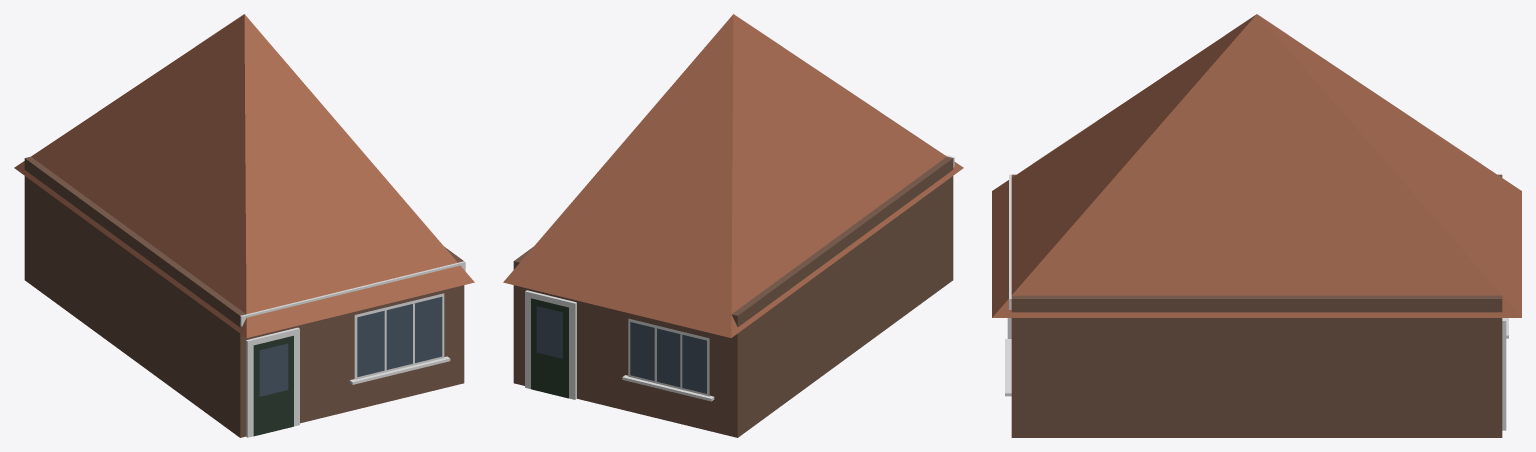
Rendered from nd-to-cottage__green-door__2__hip__long__solid__f0d1.glb.
3 views of the same model, side by side, from view 1: azimuth 30°, elevation 25°; view 2: azimuth 150°, elevation 25°; view 3: azimuth 270°, elevation 25° (orthographic). The views are drawn at different scales.
Visible parts, largest first — view 1: nd-to-cottage__green-door__2__hip__long__solid__f0d1; view 2: nd-to-cottage__green-door__2__hip__long__solid__f0d1; view 3: nd-to-cottage__green-door__2__hip__long__solid__f0d1.
Boxes of the visible parts, bbox=[...] form: nd-to-cottage__green-door__2__hip__long__solid__f0d1: bbox=[14, 14, 474, 437]; nd-to-cottage__green-door__2__hip__long__solid__f0d1: bbox=[503, 14, 963, 437]; nd-to-cottage__green-door__2__hip__long__solid__f0d1: bbox=[992, 14, 1521, 437].
Bounding box in the file's own units: 5.38 × 7.16 × 9.5.
